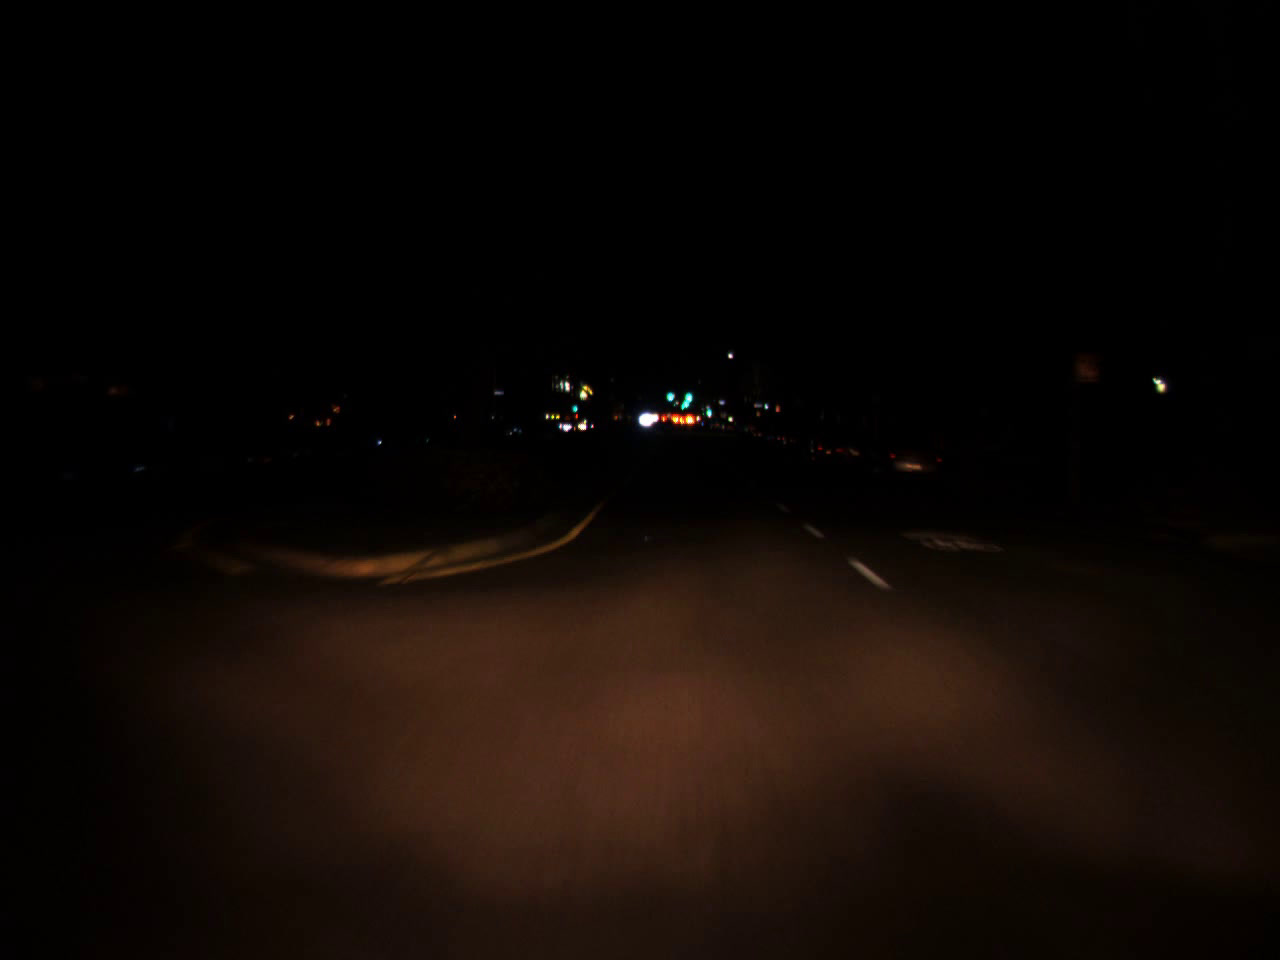go: (569, 393, 579, 417), (683, 385, 693, 403), (666, 383, 673, 404)
